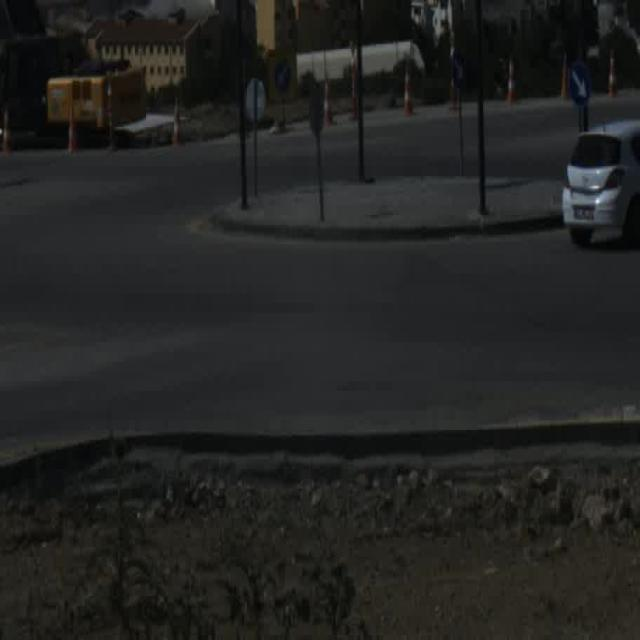Car: (560, 118, 640, 245)
